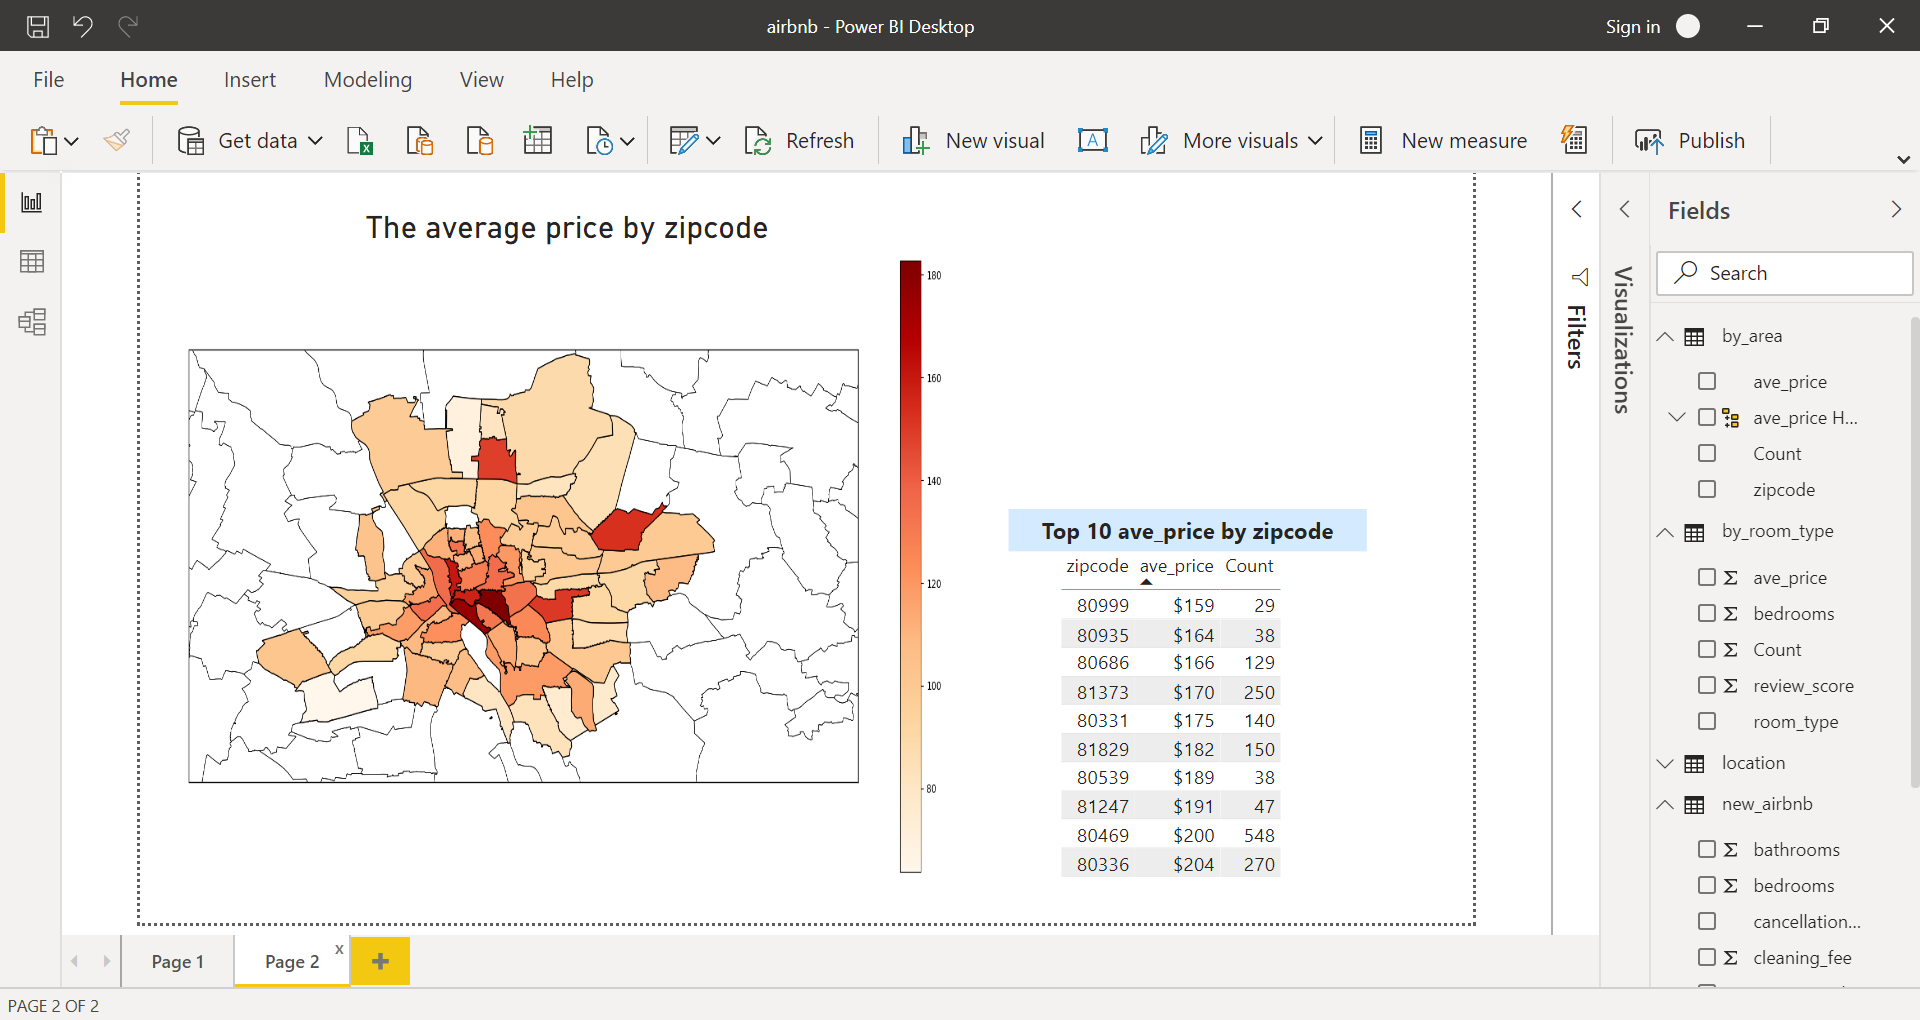

Layout of this report page (visuals, bound fields, positions):
{"tool":"powerbi","page":{"name":"Page 2","canvas":[1280,720],"ordinal":1},"visuals":[{"type":"image","title":"The average price by zipcode","box":[40.9,34.8,739.2,648.3],"z":0},{"type":"tableEx","fields":{"Values":["by_area.zipcode","by_area.ave_price","by_area.Count"]},"box":[878.6,359,298.4,360.5],"z":1},{"type":"textbox","box":[833.1,322.7,343.9,40.9],"z":2}]}

Visuals, with their boxes on the page's 1280x720 design canvas (x1, y1, x2, y2). These are canvas units, not pixel positions in the 1920x1020 screenshot, which may show the page scaled, cropped or inside an application window:
"The average price by zipcode" image: 41,35,780,683
tableEx - by_area.zipcode x by_area.ave_price: 879,359,1177,720
textbox: 833,323,1177,364
